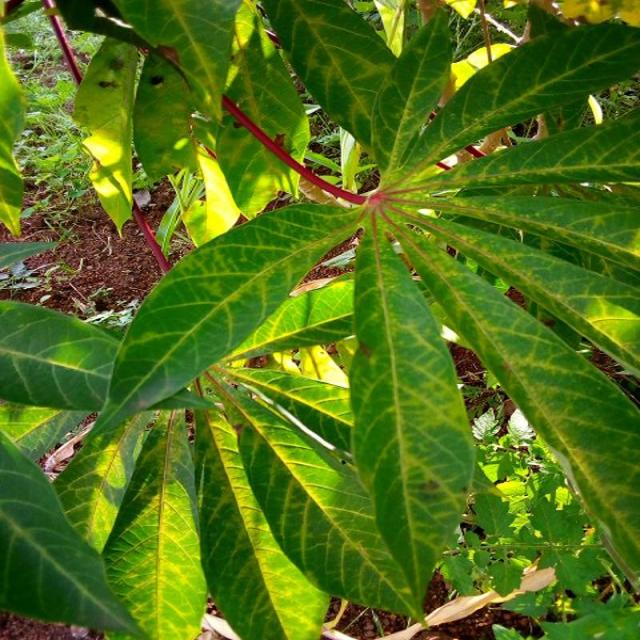cassava leaf: (0, 1, 638, 637), (347, 204, 476, 623)
